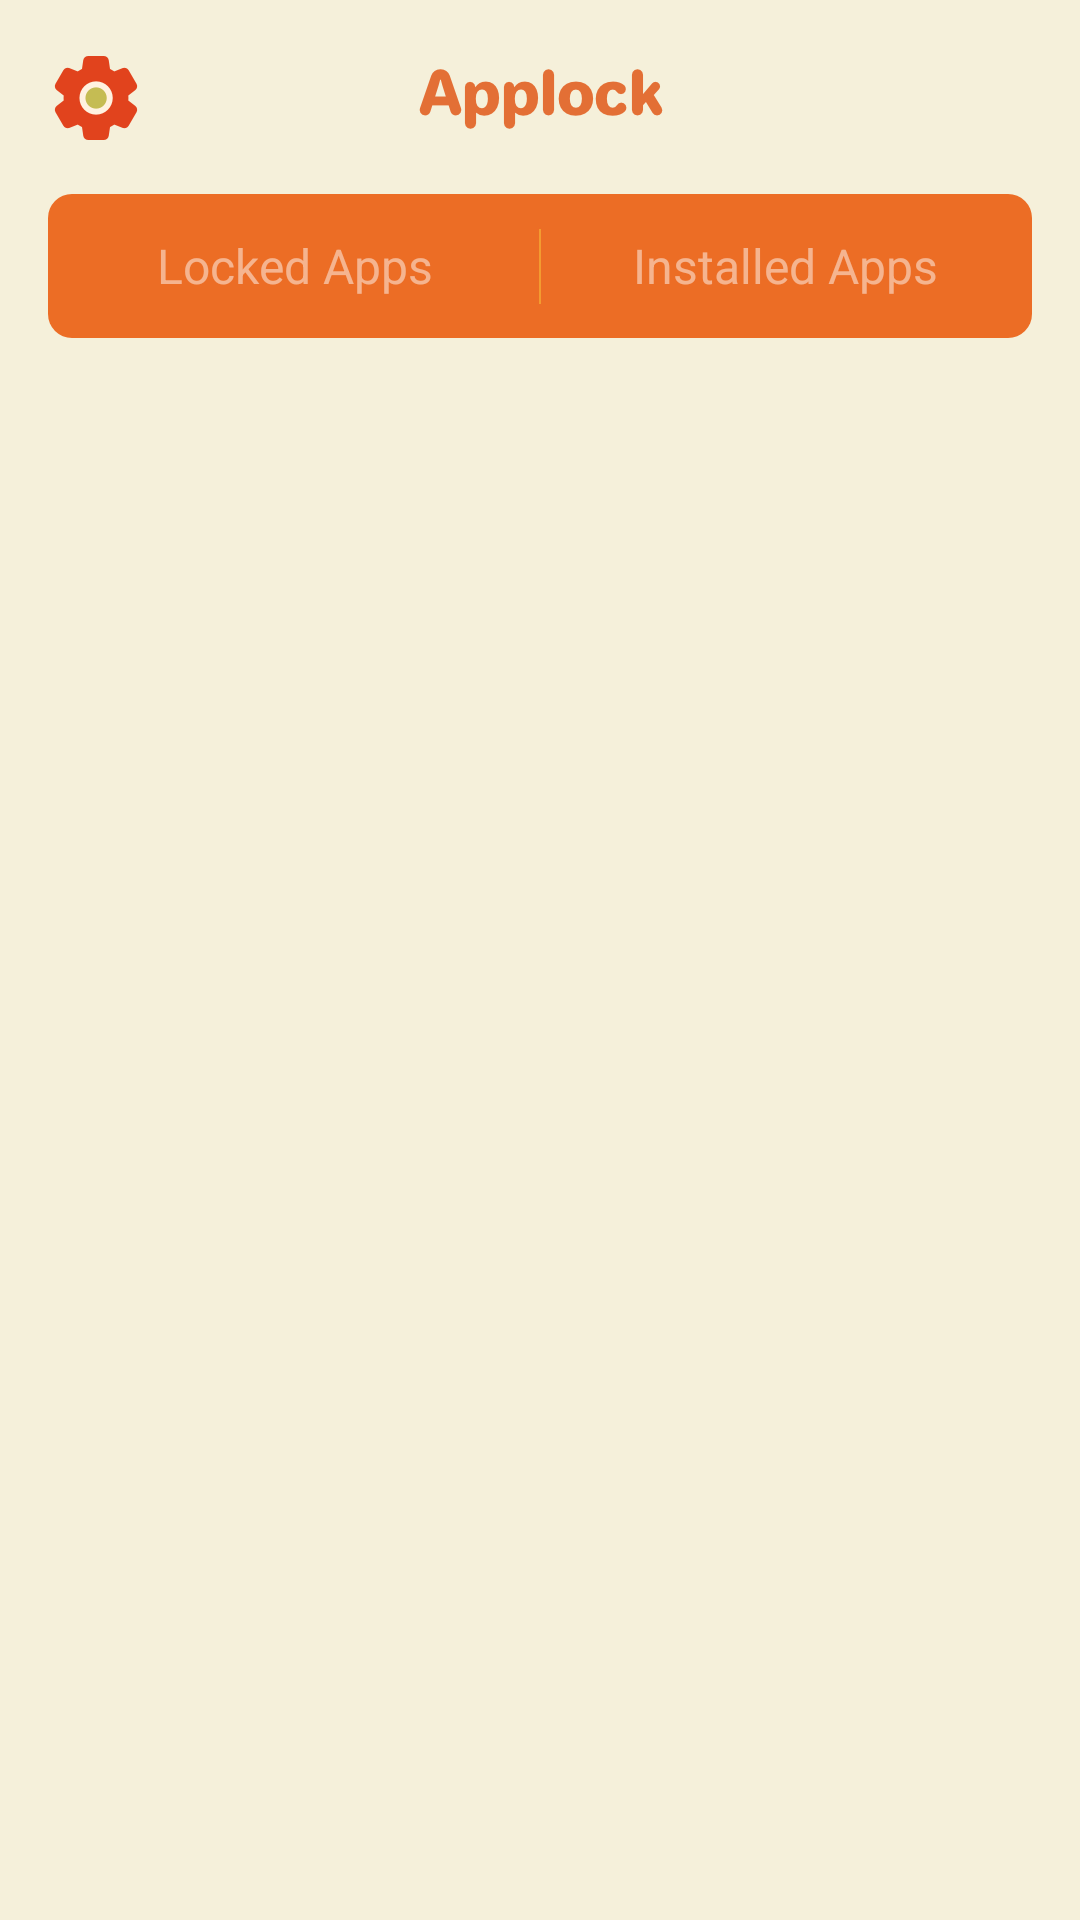

Screen size 1080x1920. Icon name, then its center in pixels as point (x, y):
set: point (96, 98)
